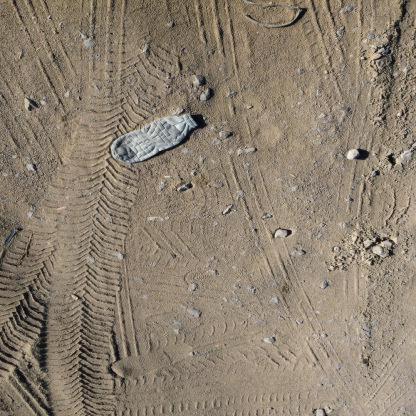Bottle cap: (112, 114, 198, 164)
Cigarette: (56, 206, 67, 210)
Other plastic: (241, 2, 301, 28), (5, 228, 17, 245)
